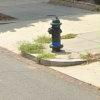a fire hydrant: (48, 16, 64, 48)
